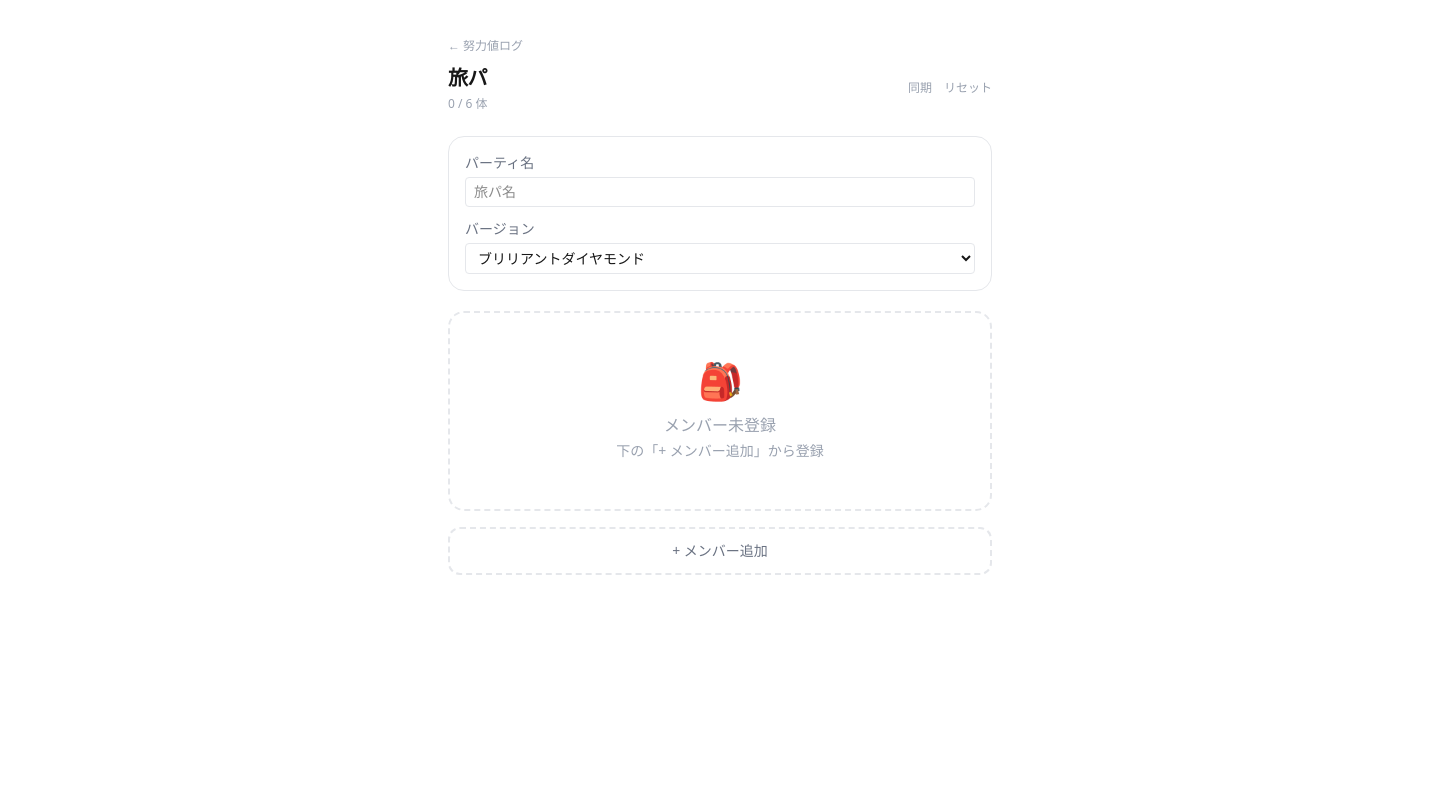
PartyPage (/) integration › adds a member via the 新規入力 tab and persists, count -> 1 / 6 体
The width and height of the screenshot is (1440, 810).
Click the button "+ メンバー追加".
click(720, 551)  # box x1=448 y1=527 x2=992 y2=575
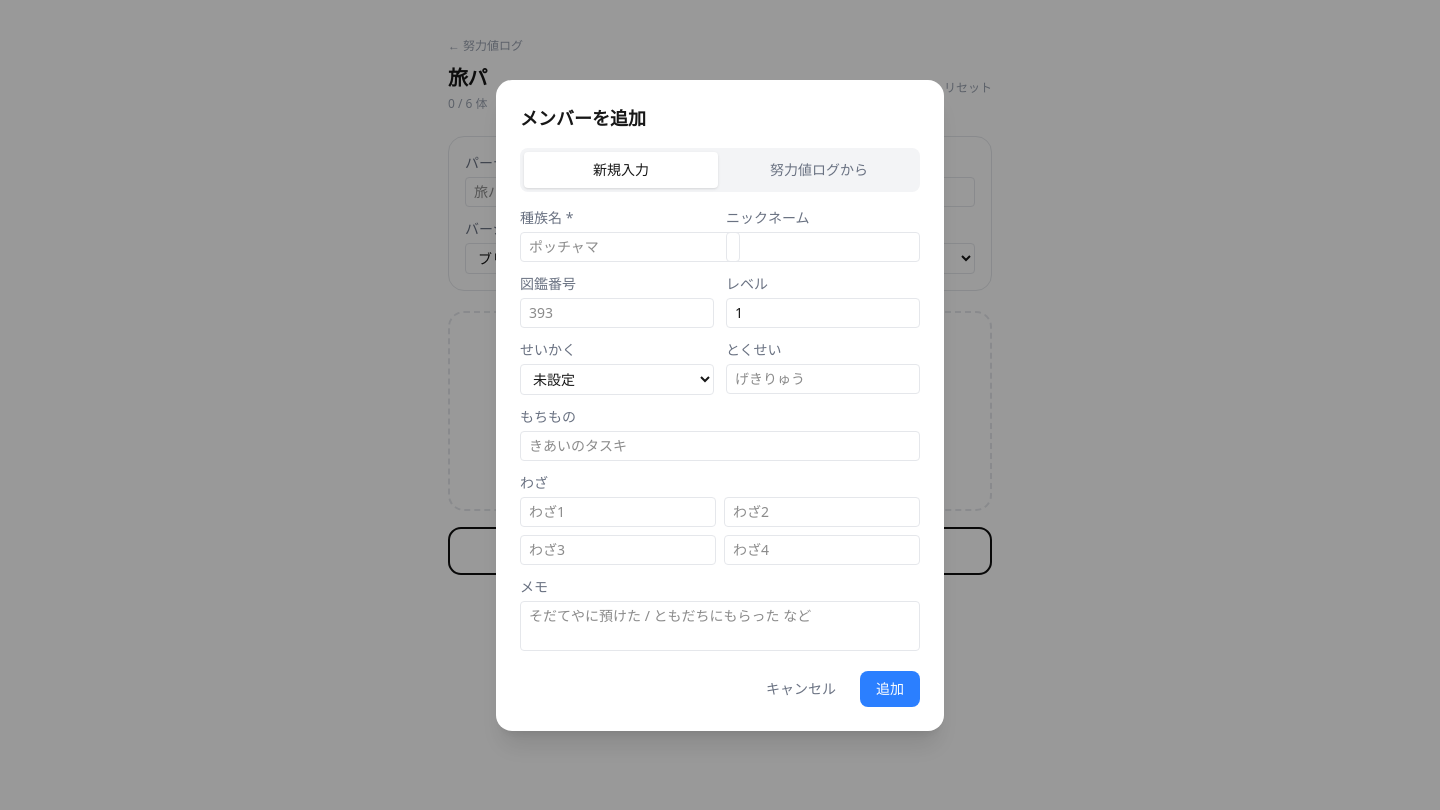
Check: the heading "メンバーを追加" is shown, box x1=520 y1=106 x2=646 y2=130
Type "ナエトル" into the dropdown with placeholder "ポッチャマ".
click(630, 246); type("ナエトル")  # box x1=520 y1=232 x2=740 y2=262
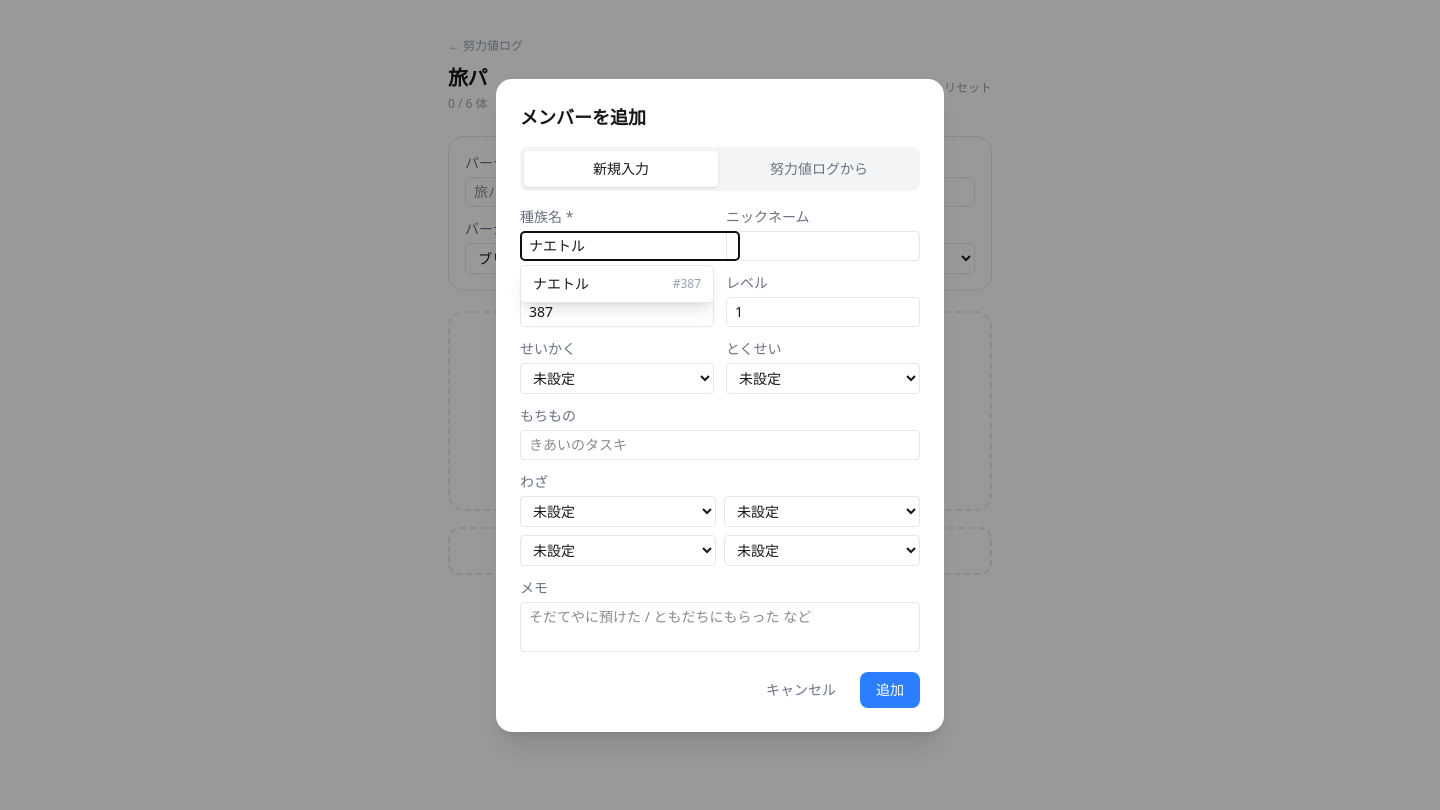
Click the button "追加".
click(890, 690)  # box x1=860 y1=672 x2=920 y2=708
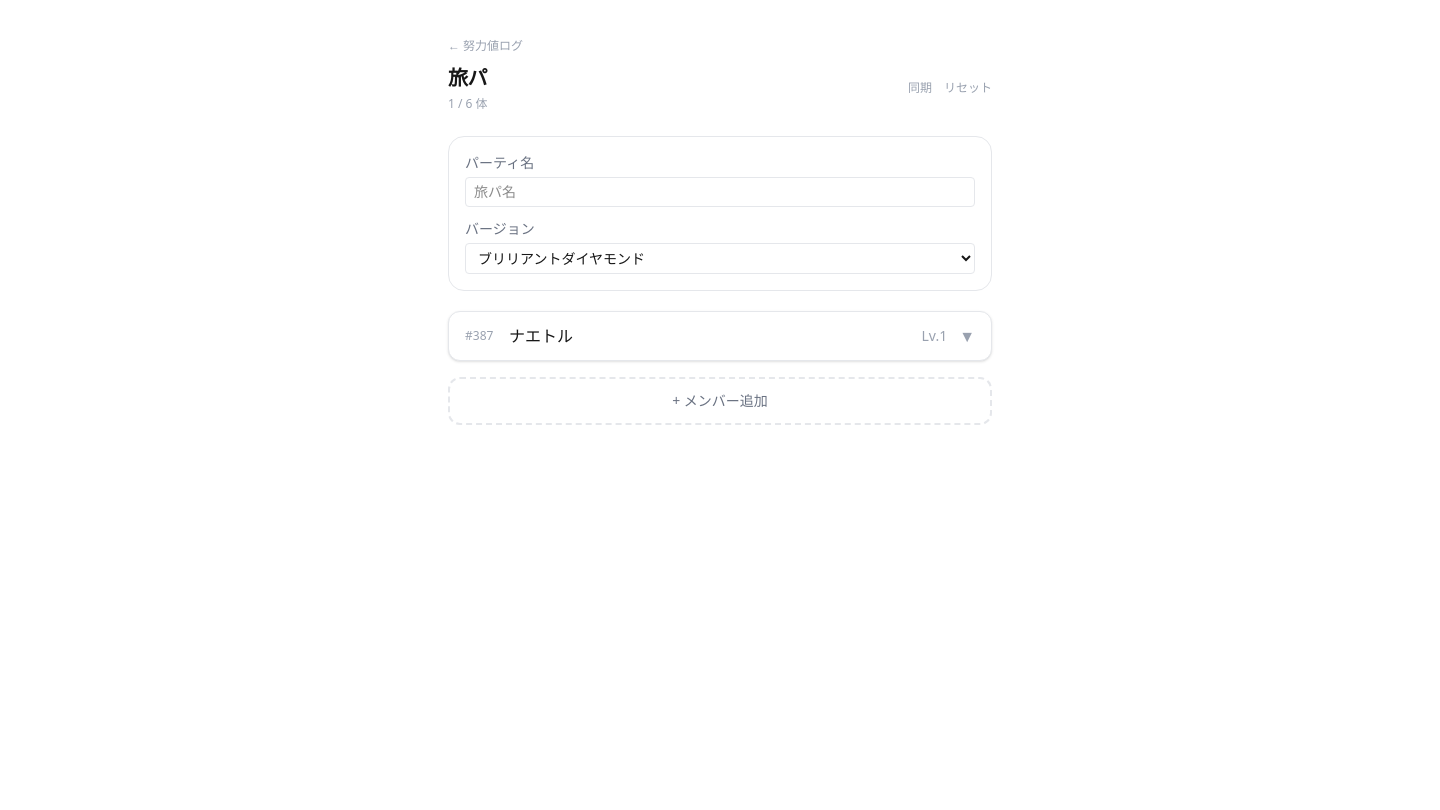
Check: the text "ナエトル" is shown, box x1=509 y1=325 x2=573 y2=347
Check: the text "1 / 6 体" is shown, box x1=448 y1=96 x2=488 y2=112
